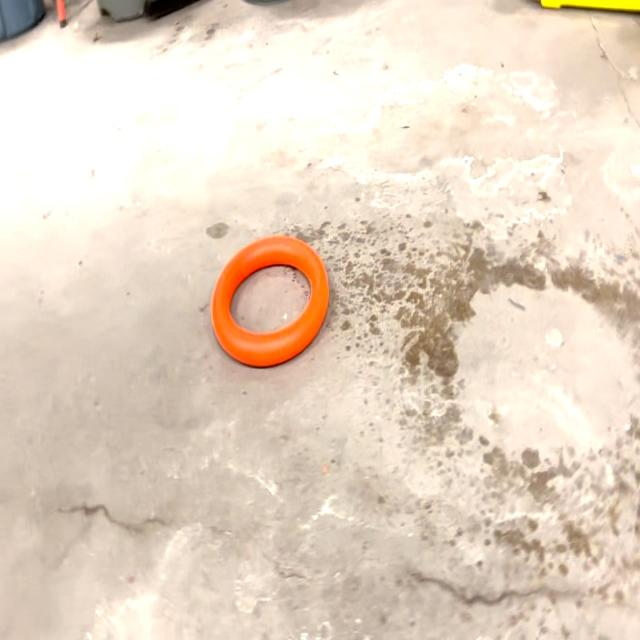note: (210, 241, 330, 369)
